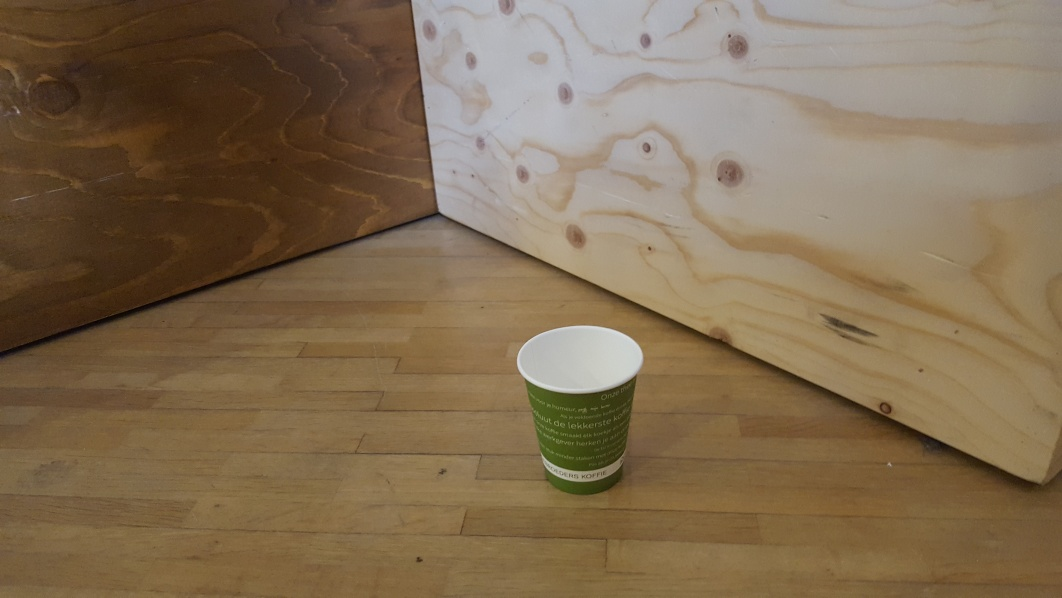cup: (516, 324, 644, 494)
